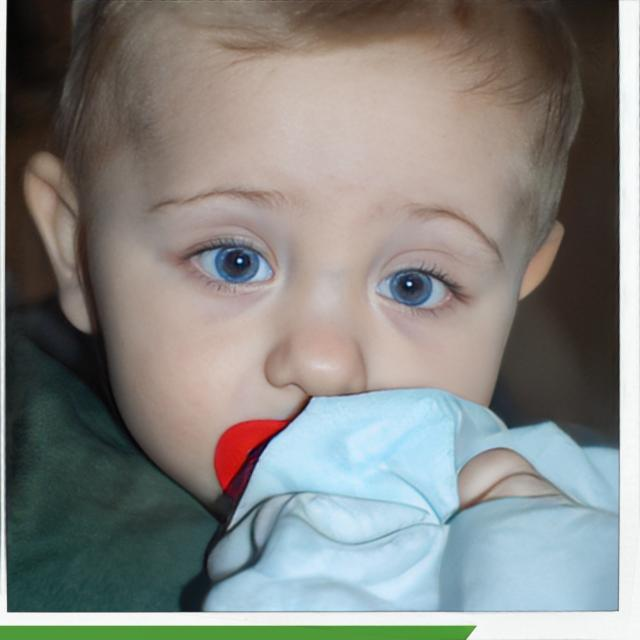surprise: (80, 2, 587, 538)
